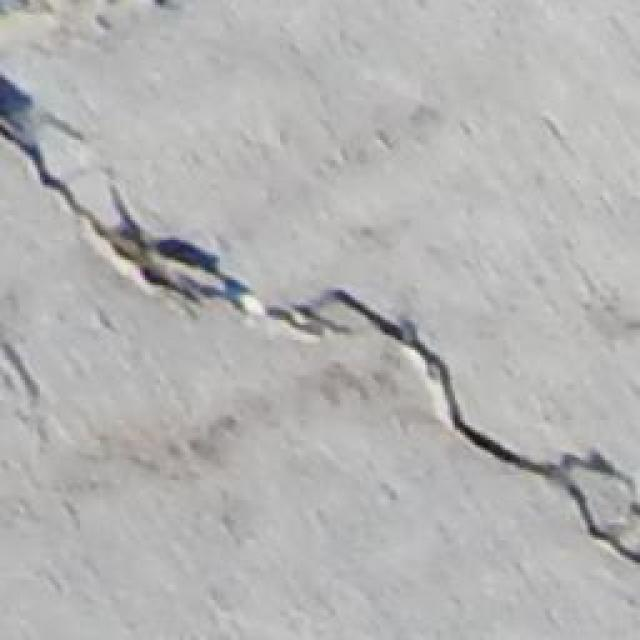concrete-crack: (1, 71, 640, 575)
